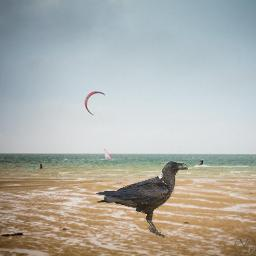Crow: (96, 161, 189, 238)
